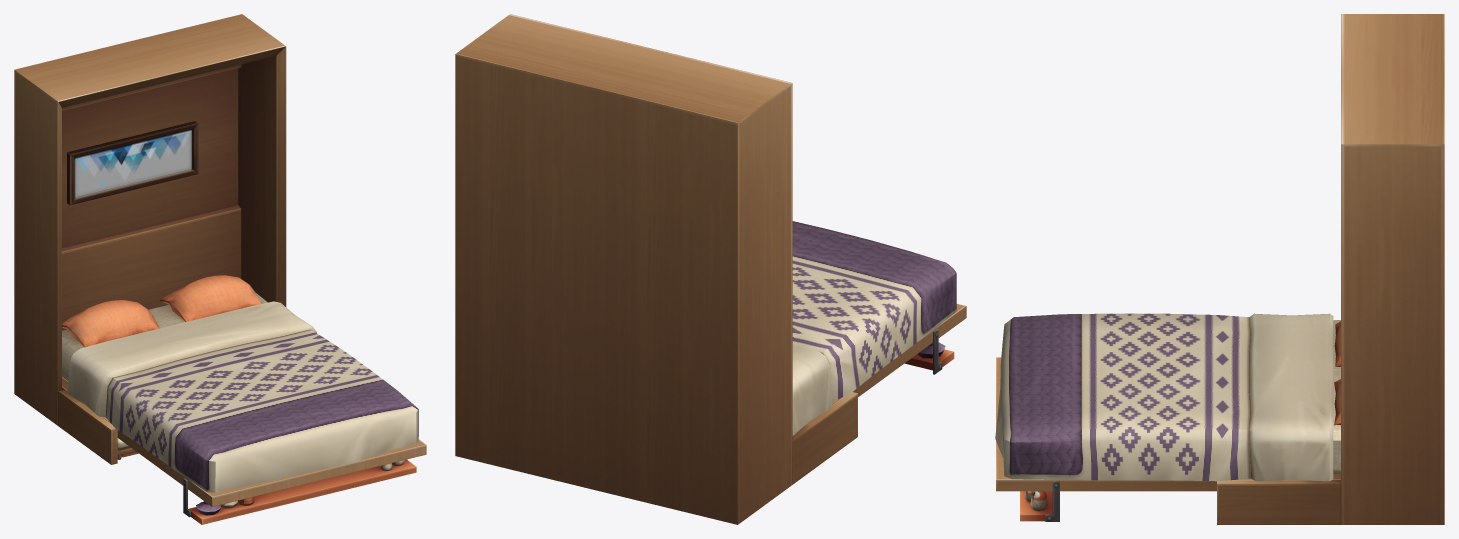
File: 墨菲床.glb
The picture shows the model from 3 angles, left to right: view 1: azimuth 30°, elevation 25°; view 2: azimuth 150°, elevation 25°; view 3: azimuth 270°, elevation 25°; orthographic projection. The views are drawn at different scales.
Visible parts, largest first — view 1: TinyLiving_MurphyBed_2, s4studio_mesh_4_1, s4studio_mesh_0_0; view 2: TinyLiving_MurphyBed_2, s4studio_mesh_4_1, s4studio_mesh_0_0; view 3: s4studio_mesh_4_1, TinyLiving_MurphyBed_2, s4studio_mesh_0_0.
Boxes of the visible parts, x1,y1,x2,y2 form: TinyLiving_MurphyBed_2: (14,14,286,425); s4studio_mesh_4_1: (62,275,418,492); s4studio_mesh_0_0: (58,121,426,524); TinyLiving_MurphyBed_2: (455,14,792,524); s4studio_mesh_4_1: (792,221,956,435); s4studio_mesh_0_0: (792,303,966,484); s4studio_mesh_4_1: (995,313,1340,481); TinyLiving_MurphyBed_2: (1341,14,1444,524); s4studio_mesh_0_0: (996,357,1340,524).
Bounding box in the file's own units: 1.76 × 2.4 × 2.57.
Materials: 2 (2 with a texture image).
